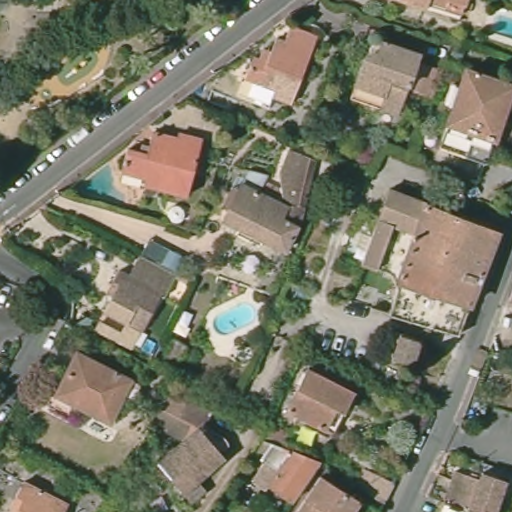pool: (74, 163, 139, 208), (212, 295, 259, 339), (483, 11, 512, 44), (142, 333, 162, 355)
